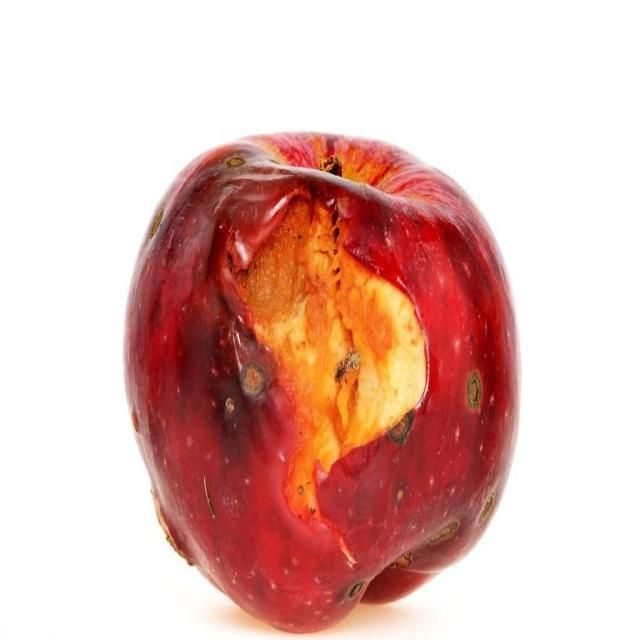Wet Waste: (119, 130, 520, 637)
